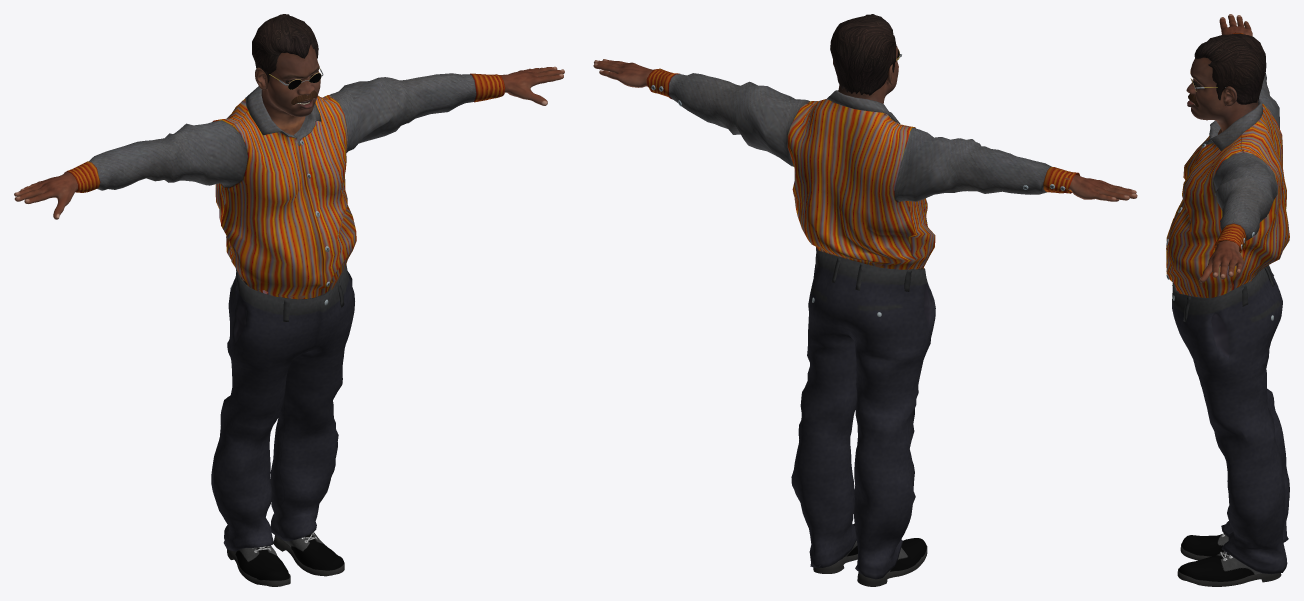
File: ManagerMarkModel.obj
3 renders of one model, left to right at view 1: azimuth 30°, elevation 25°; view 2: azimuth 150°, elevation 25°; view 3: azimuth 270°, elevation 25°, orthographic. The views are drawn at different scales.
Parts seen in each view (by area): view 1: Tops, Bottoms, Body, Shoes, Hair; view 2: Bottoms, Tops, Hair, Body, Shoes; view 3: Bottoms, Tops, Body, Hair, Shoes.
Part boxes in pixels (x1=…): Tops: x1=64, y1=73, x2=505, y2=299; Bottoms: x1=211, y1=264, x2=354, y2=551; Body: x1=14, y1=44, x2=564, y2=299; Shoes: x1=227, y1=532, x2=344, y2=586; Hair: x1=252, y1=14, x2=318, y2=83; Bottoms: x1=791, y1=247, x2=935, y2=579; Tops: x1=646, y1=68, x2=1079, y2=269; Hair: x1=830, y1=14, x2=896, y2=95; Body: x1=593, y1=44, x2=1137, y2=269; Shoes: x1=813, y1=523, x2=927, y2=586; Bottoms: x1=1172, y1=265, x2=1289, y2=574; Tops: x1=1166, y1=32, x2=1289, y2=298; Body: x1=1186, y1=14, x2=1258, y2=287; Hair: x1=1194, y1=33, x2=1266, y2=104; Shoes: x1=1177, y1=533, x2=1281, y2=586.
Bounding box in the file's own units: 187 × 178 × 37.38.
Materials: 1 (1 with a texture image).
